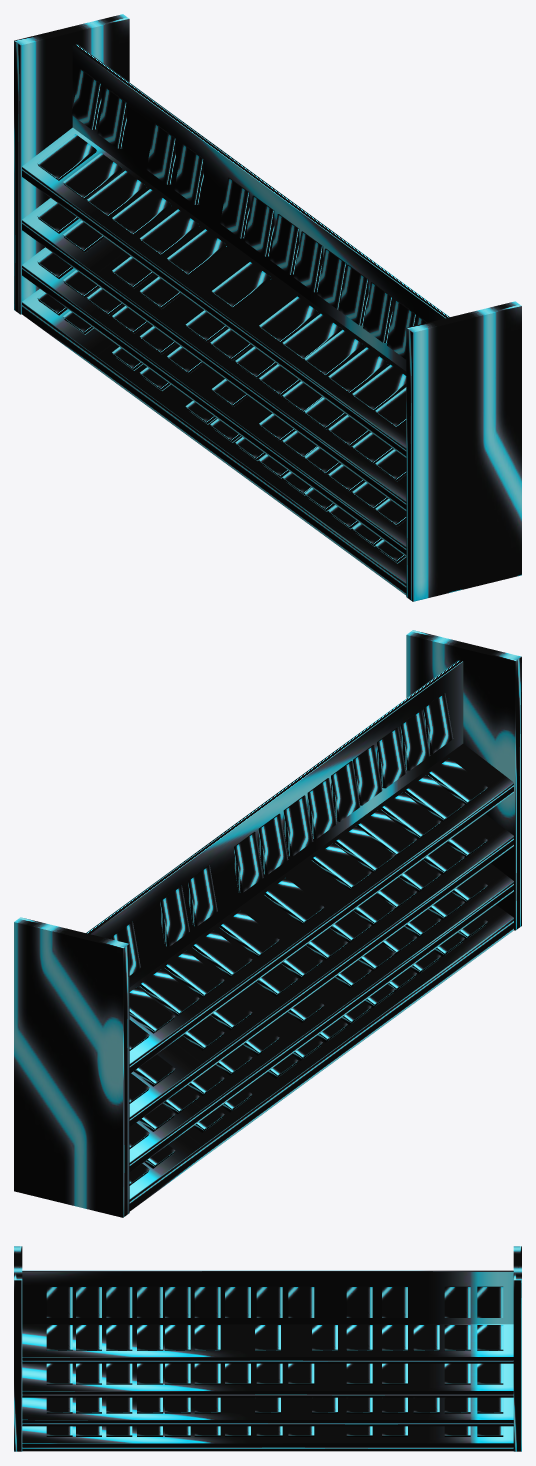
Rendered from shelfshop.obj.
3 views of the same model, one above another, from view 1: azimuth 30°, elevation 25°; view 2: azimuth 150°, elevation 25°; view 3: azimuth 270°, elevation 25° (orthographic). The views are drawn at different scales.
Parts seen in each view (by area): view 1: pCube138; view 2: pCube138; view 3: pCube138.
Part boxes in pixels (bbox=[...]): pCube138: bbox=[14, 14, 521, 601]; pCube138: bbox=[14, 630, 521, 1217]; pCube138: bbox=[14, 1246, 521, 1451].
Bounding box in the file's own units: 0.9631 × 2.27 × 6.1.
